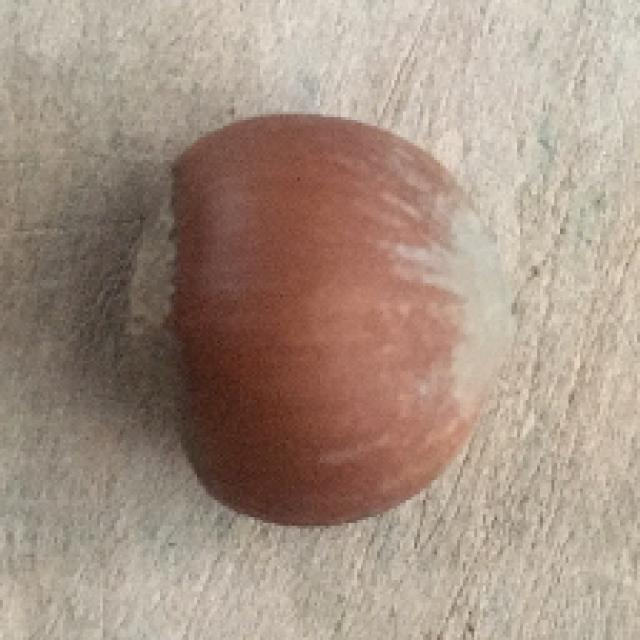qualityHazelnut: (122, 111, 516, 524)
